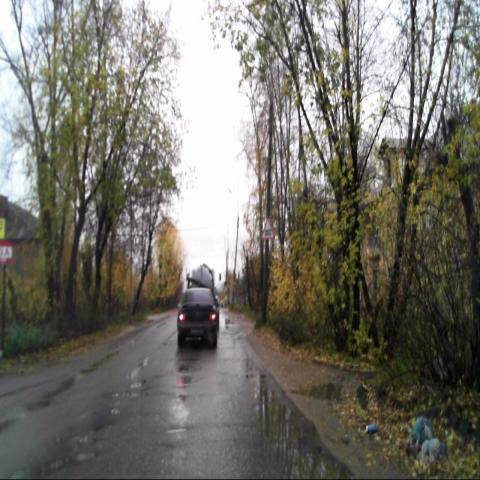1_1: (260, 217, 276, 240)
